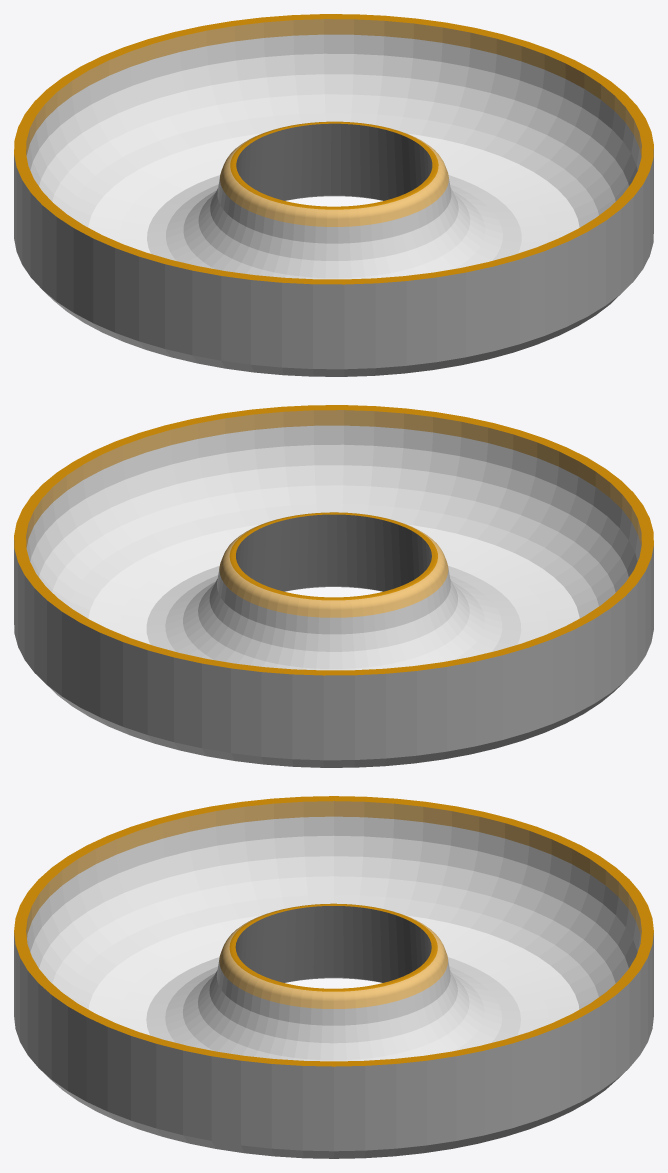
Rendered from QuarterRingWide_100x100x18.fbx.
The picture shows the model from 3 angles, top to bottom: view 1: azimuth 30°, elevation 25°; view 2: azimuth 150°, elevation 25°; view 3: azimuth 270°, elevation 25°; orthographic projection.
Parts seen in each view (by area): view 1: QuarterRingWide_100x100x18; view 2: QuarterRingWide_100x100x18; view 3: QuarterRingWide_100x100x18.
Boxes of the visible parts, x1=… form: QuarterRingWide_100x100x18: x1=14, y1=14, x2=653, y2=376; QuarterRingWide_100x100x18: x1=14, y1=405, x2=653, y2=767; QuarterRingWide_100x100x18: x1=14, y1=796, x2=653, y2=1158.
Bounding box in the file's own units: 107 × 18.05 × 107.
